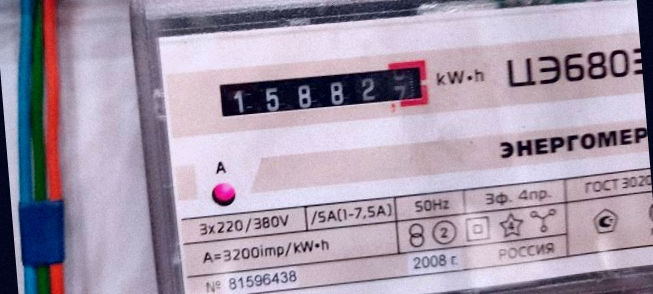1: (231, 85, 247, 115)
2: (358, 75, 377, 102)
5: (262, 84, 282, 115)
7: (392, 82, 406, 100)
8: (294, 81, 313, 110), (327, 78, 345, 107)
screen: (206, 50, 436, 129)
